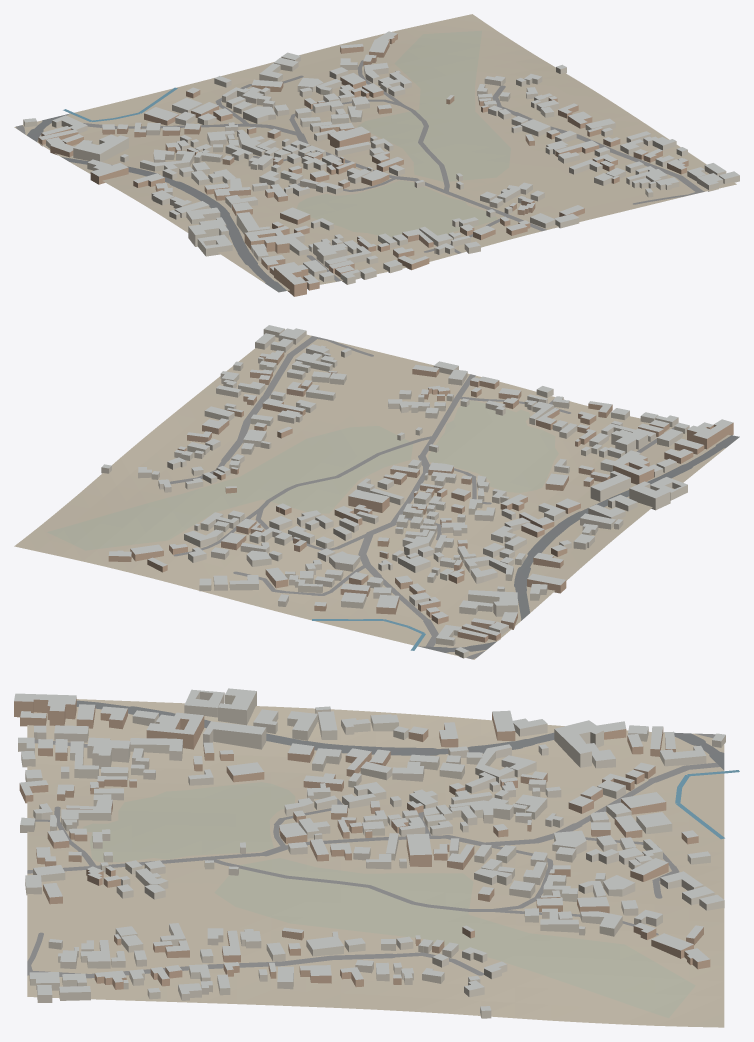
The model's file is bolak_-10_-11.glb.
3 renders of one model, top to bottom at view 1: azimuth 30°, elevation 25°; view 2: azimuth 150°, elevation 25°; view 3: azimuth 270°, elevation 25°, orthographic. The views are drawn at different scales.
Visible parts, largest first — view 1: Yer_Tuproq-col, Tom_Shifer, Yer_Qabr, Devor_Suvoq-col, Devor_Gisht-col, Yol_Mahalla-col, Yol_Asfalt-col; view 2: Yer_Tuproq-col, Tom_Shifer, Yer_Qabr, Devor_Suvoq-col, Devor_Gisht-col, Yol_Mahalla-col, Yol_Asfalt-col; view 3: Yer_Tuproq-col, Tom_Shifer, Yer_Qabr, Devor_Suvoq-col, Devor_Gisht-col, Yol_Mahalla-col, Yol_Asfalt-col.
Boxes of the visible parts, x1,y1,x2,y2 form: Yer_Tuproq-col: (14,14,736,292); Tom_Shifer: (23,31,739,284); Yer_Qabr: (296,30,510,237); Devor_Suvoq-col: (23,56,739,284); Devor_Gisht-col: (38,34,688,296); Yol_Mahalla-col: (16,60,704,281); Yol_Asfalt-col: (27,113,286,292); Yer_Tuproq-col: (14,334,735,659); Tom_Shifer: (102,325,732,652); Yer_Qabr: (47,400,558,550); Devor_Suvoq-col: (101,329,689,658); Devor_Gisht-col: (108,352,733,642); Yol_Mahalla-col: (170,336,674,659); Yol_Asfalt-col: (418,435,739,652); Yer_Tuproq-col: (27,699,724,1027); Tom_Shifer: (14,688,725,1010); Yer_Qabr: (83,782,695,1018); Devor_Suvoq-col: (18,691,725,1018); Devor_Gisht-col: (14,697,710,989); Yol_Mahalla-col: (27,733,719,978); Yol_Asfalt-col: (76,700,724,770).
Size of what is drawn, in the model's own units: 415 by 31.04 by 417.
